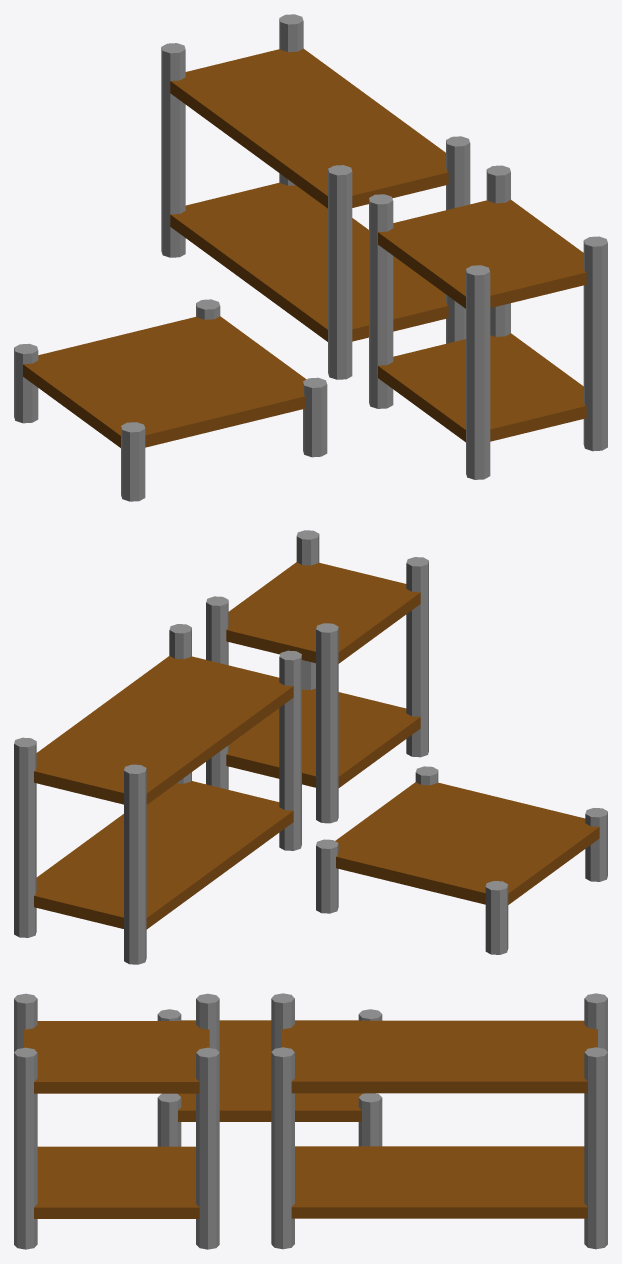
File: shop_tables.fbx
3 views of the same model, one above another, from view 1: azimuth 30°, elevation 25°; view 2: azimuth 150°, elevation 25°; view 3: azimuth 270°, elevation 25° (orthographic). The views are drawn at different scales.
Parts seen in each view (by area): view 1: table, table.001, table.002; view 2: table, table.001, table.002; view 3: table, table.001, table.002.
Part boxes in pixels (<box>): table: <box>161,14,470,379</box>; table.001: <box>369,165,607,479</box>; table.002: <box>14,299,327,501</box>; table: <box>14,624,301,964</box>; table.001: <box>206,530,428,823</box>; table.002: <box>316,766,607,954</box>; table: <box>271,993,607,1249</box>; table.001: <box>14,993,219,1249</box>; table.002: <box>157,1009,382,1146</box>.
Size of the model in its own units: 320 by 162 by 429.
